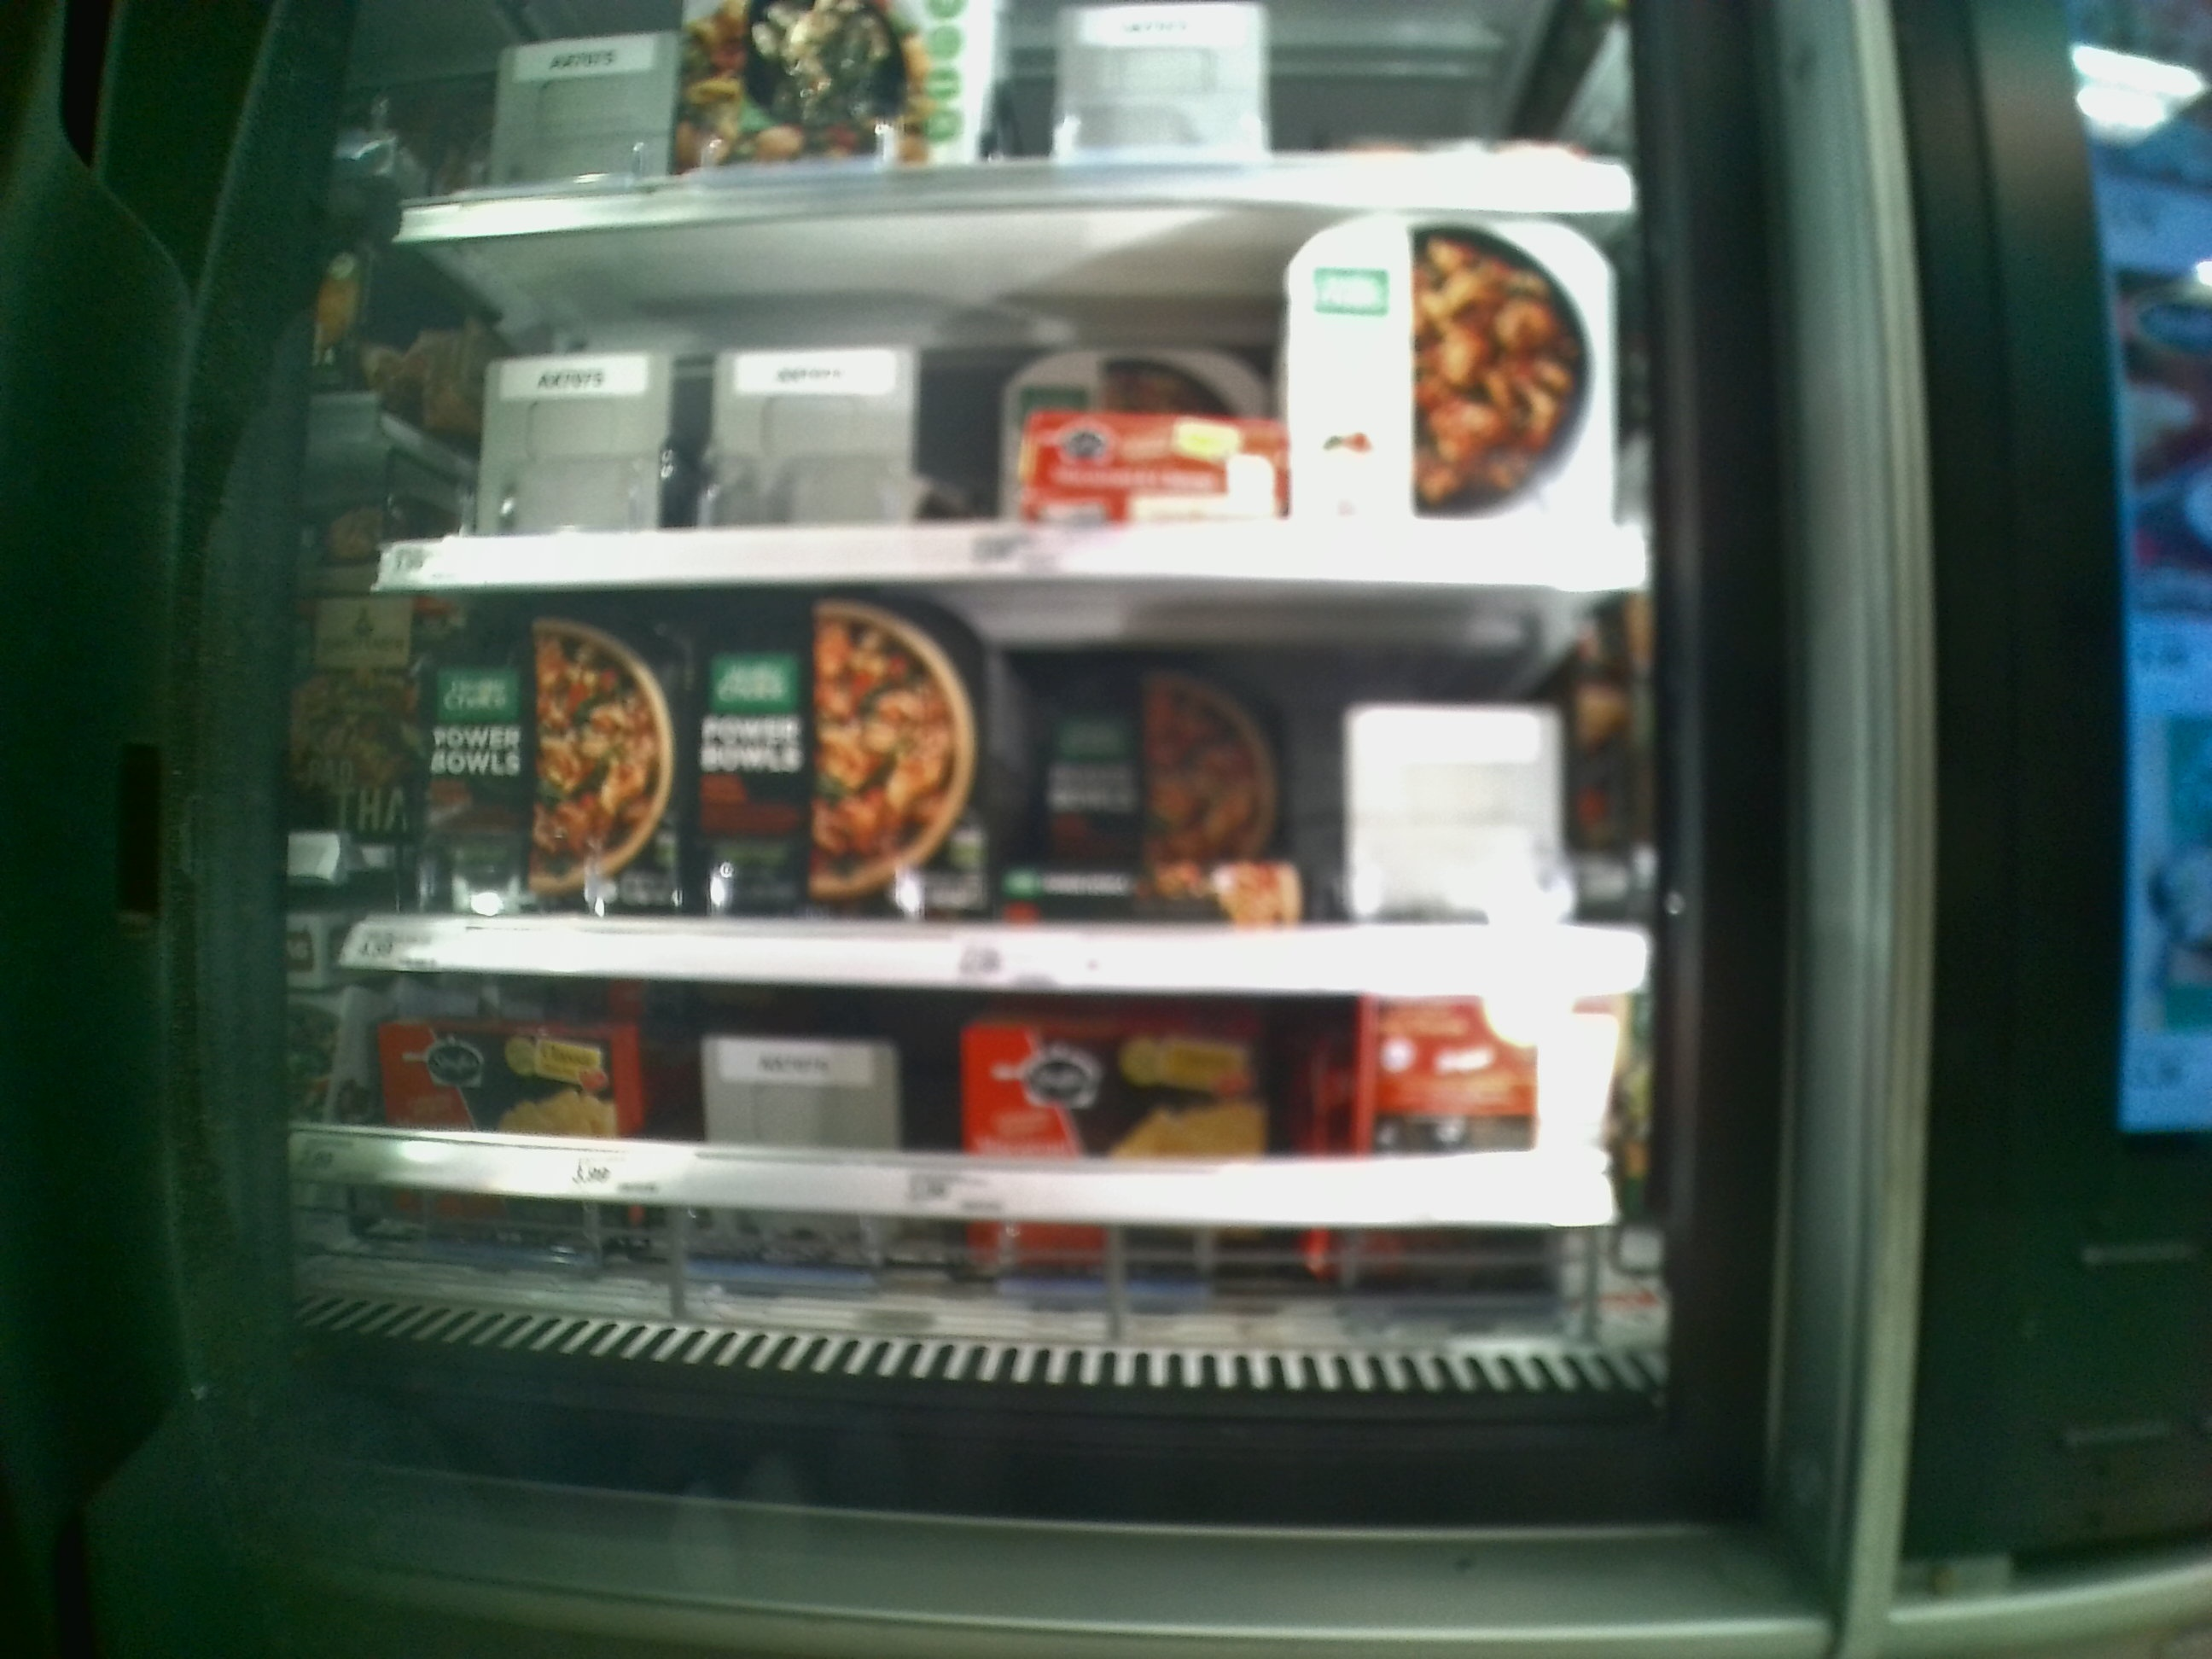shelf: (329, 958, 1669, 1356), (376, 586, 1655, 990), (381, 204, 1644, 582)
